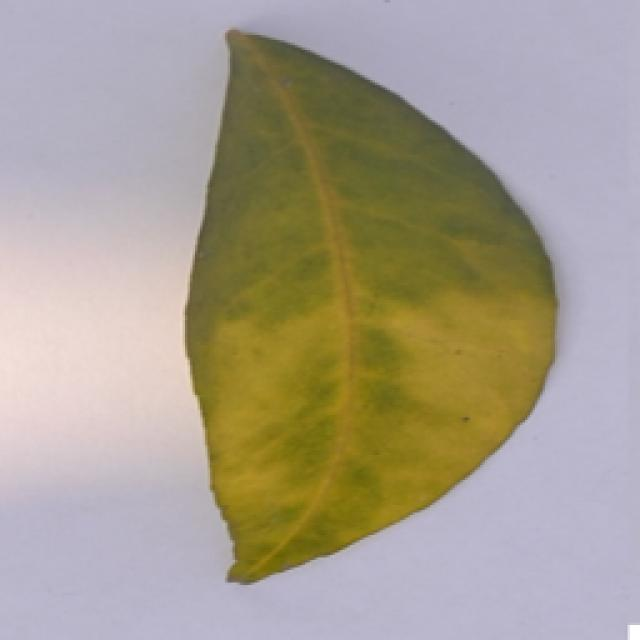greening: (147, 28, 567, 592)
